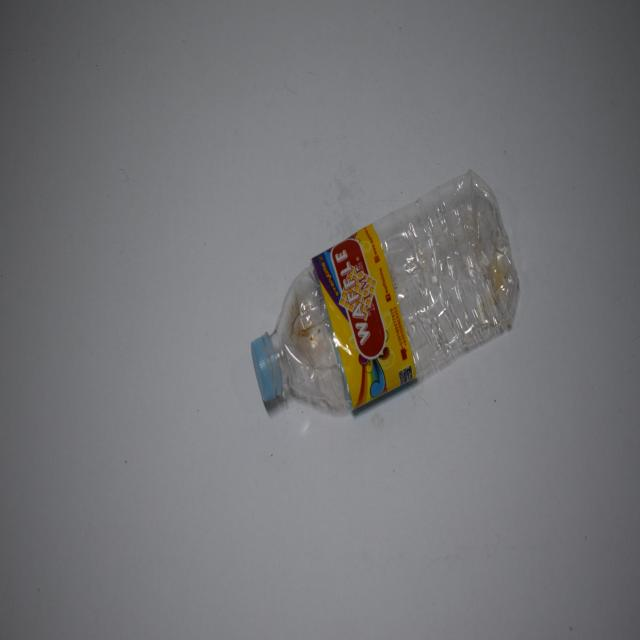bottle: (250, 164, 533, 433)
